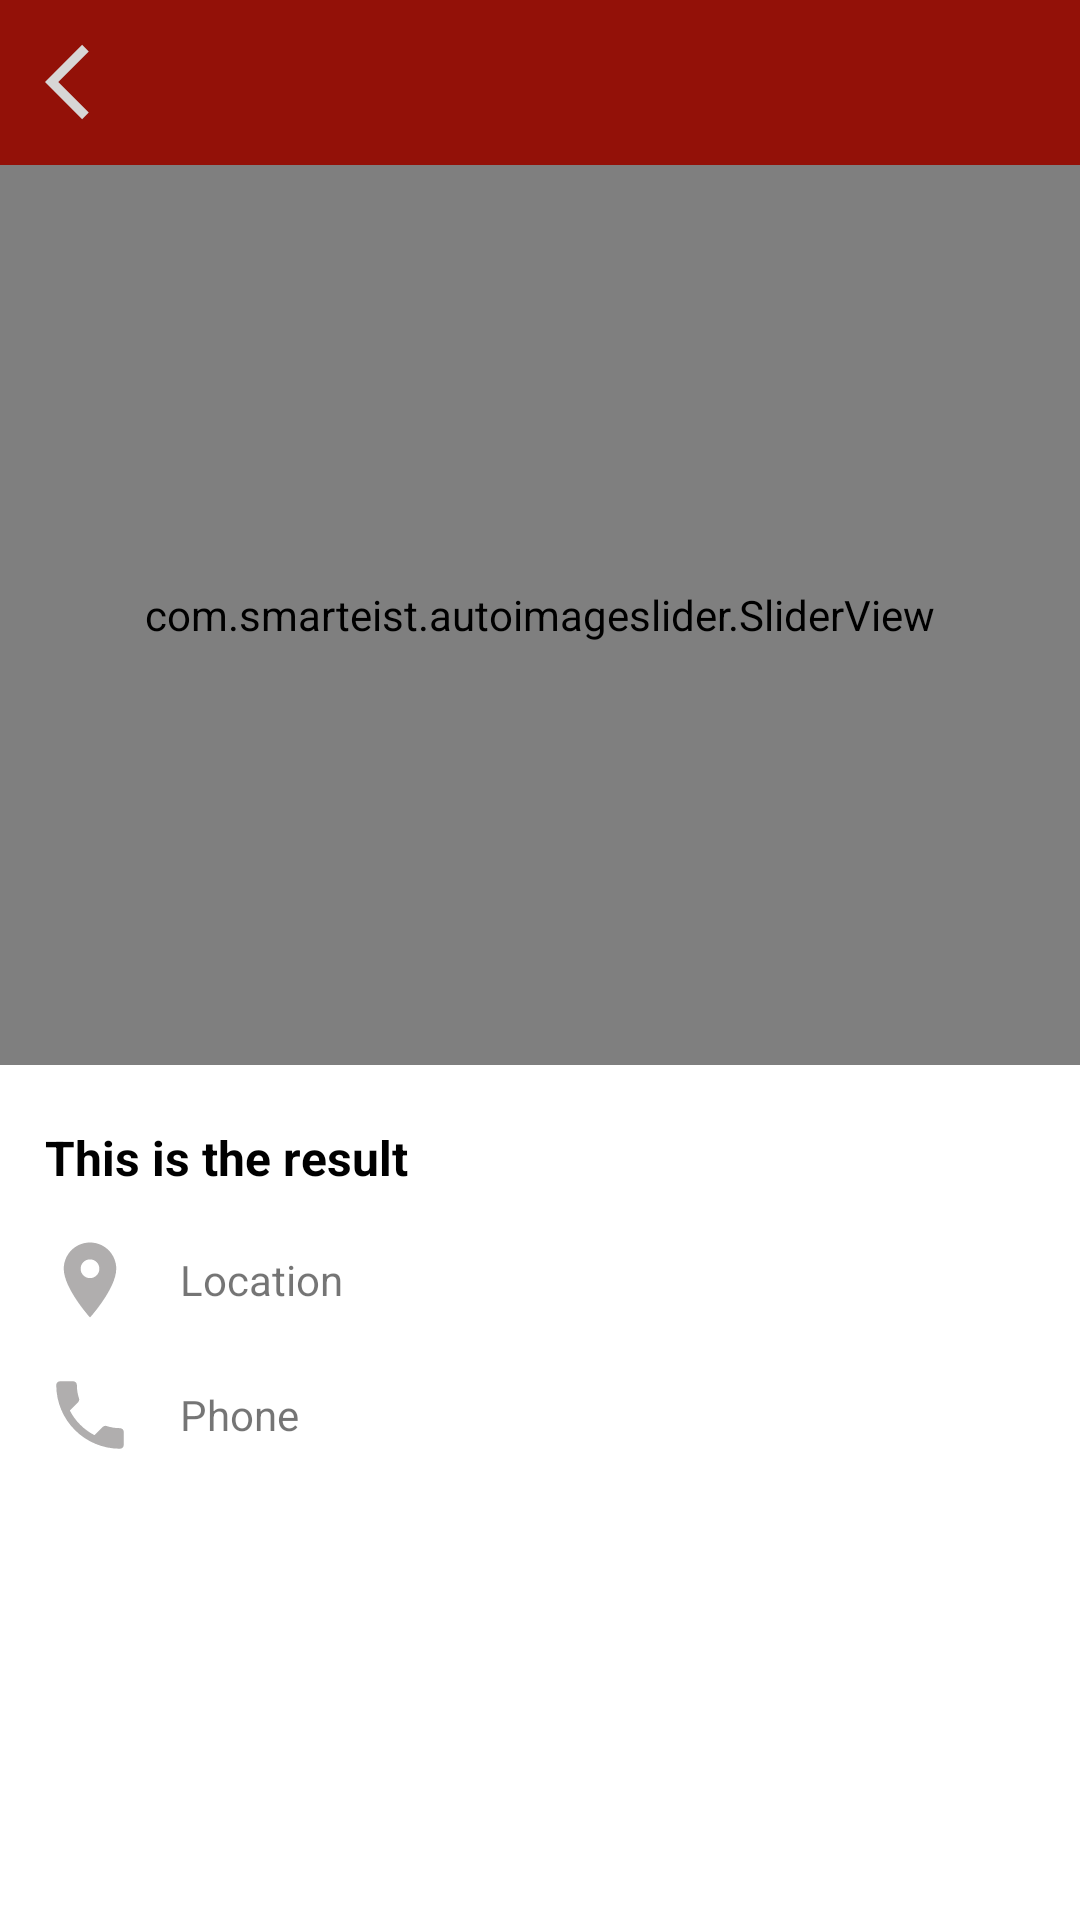

Where icons sit on this 1080*1920 app screen, as Rect(x1, y1, x2, y2):
arrow back: Rect(45, 45, 89, 119)
